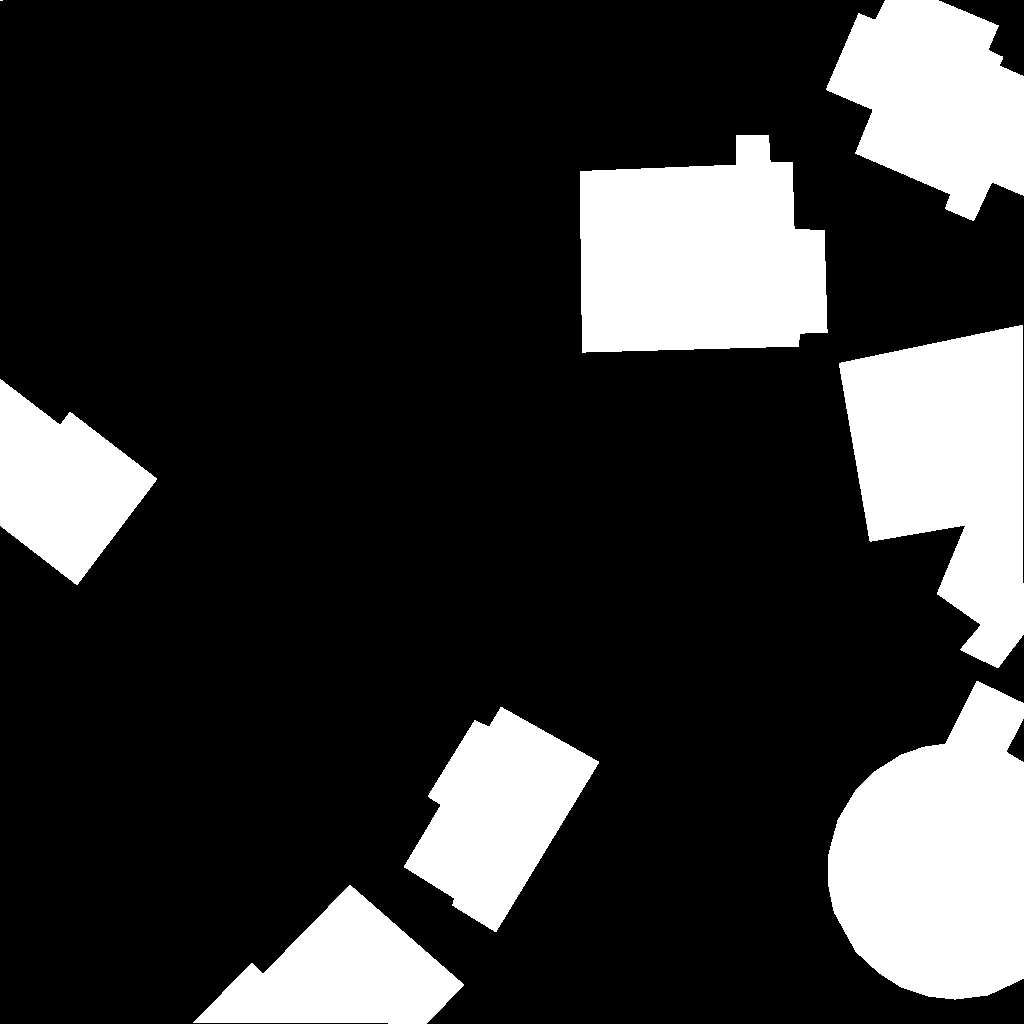building: (839, 325, 1024, 669), (828, 681, 1024, 1000), (580, 135, 828, 353), (404, 707, 600, 933), (826, 0, 1024, 222), (193, 885, 465, 1024), (0, 379, 158, 586), (0, 0, 4, 2)
